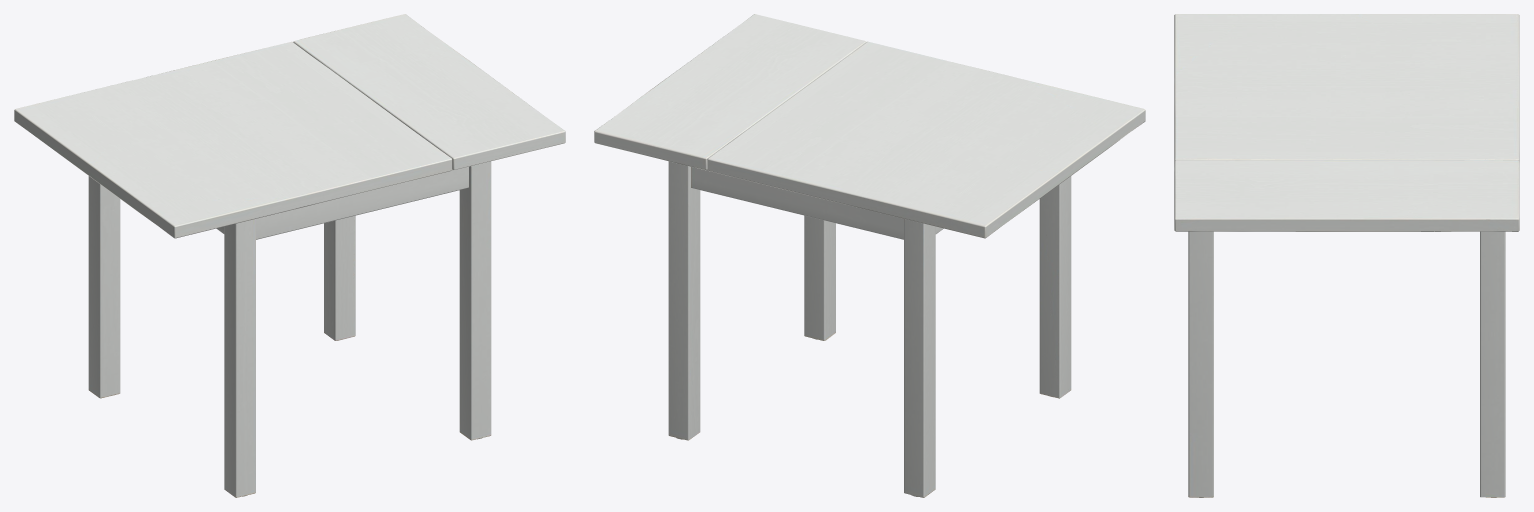
The model's file is NORDVIKEN_70368716.glb.
3 views of the same model, side by side, from view 1: azimuth 30°, elevation 25°; view 2: azimuth 150°, elevation 25°; view 3: azimuth 270°, elevation 25° (orthographic). The views are drawn at different scales.
Parts seen in each view (by area): view 1: model; view 2: model; view 3: model.
Part boxes in pixels (x1,y1,x2,y2): model: (14,14,565,497); model: (594,14,1145,497); model: (1174,14,1519,497).
Size of the model in its own units: 1.04 by 0.7474 by 0.7401.
1 material, 1 textured.
